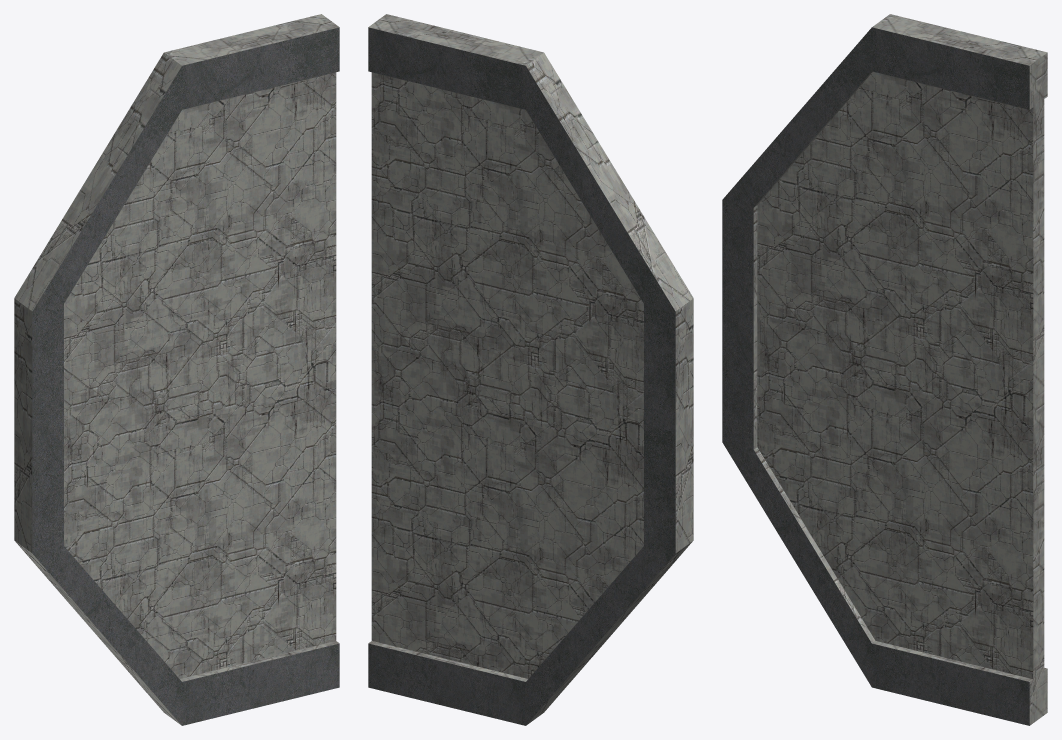
File: Door2-LeftSide-V3.fbx
The picture shows the model from 3 angles, left to right: view 1: azimuth 30°, elevation 25°; view 2: azimuth 150°, elevation 25°; view 3: azimuth 330°, elevation 25°; orthographic projection.
Parts seen in each view (by area): view 1: node_id8 (×2); view 2: node_id8 (×2); view 3: node_id8 (×2).
Part boxes in pixels (bbox=[...]): node_id8 (×2): bbox=[14, 14, 339, 725]; node_id8 (×2): bbox=[368, 14, 693, 725]; node_id8 (×2): bbox=[722, 14, 1047, 725].
Bounding box in the file's own units: 0.2495 × 0.512 × 0.0256.
3 materials, 2 textured.
